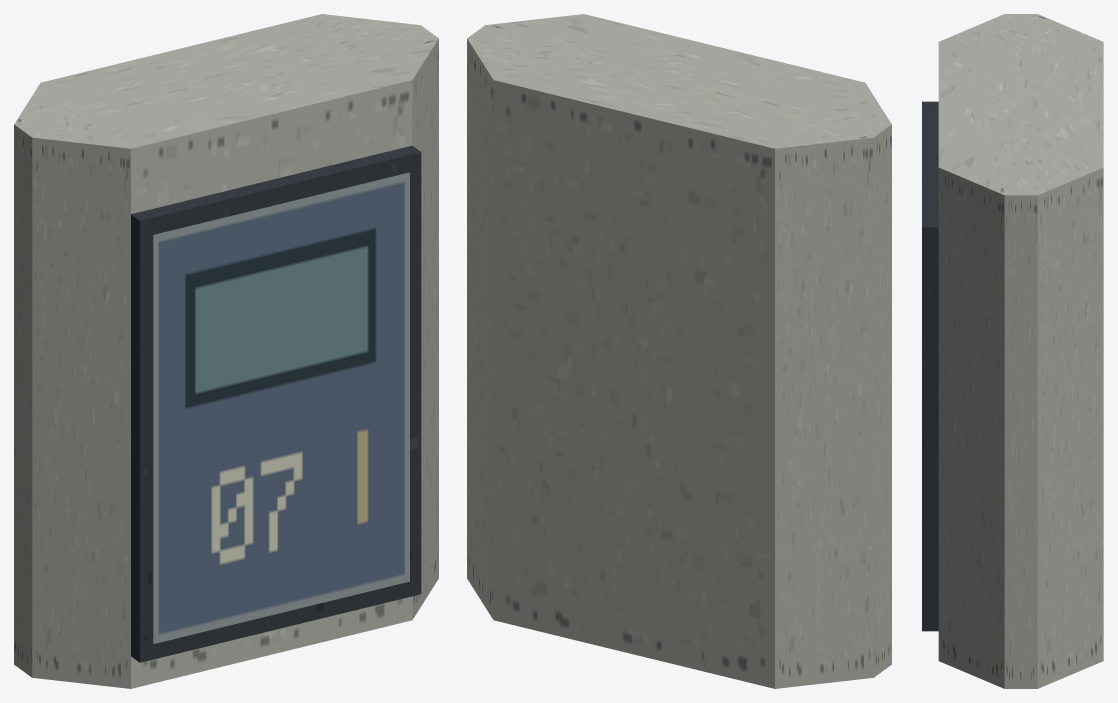
Rendered from Airlock.fbx.
The picture shows the model from 3 angles, left to right: view 1: azimuth 30°, elevation 25°; view 2: azimuth 150°, elevation 25°; view 3: azimuth 270°, elevation 25°; orthographic projection. The views are drawn at different scales.
Visible parts, largest first — view 1: Airlock; view 2: Airlock; view 3: Airlock.
Part boxes in pixels (box(x1,y1,x2,y2)): Airlock: box(14, 14, 438, 688); Airlock: box(467, 14, 891, 688); Airlock: box(922, 14, 1103, 688).
Bounding box in the file's own units: 260 × 330 × 111.
